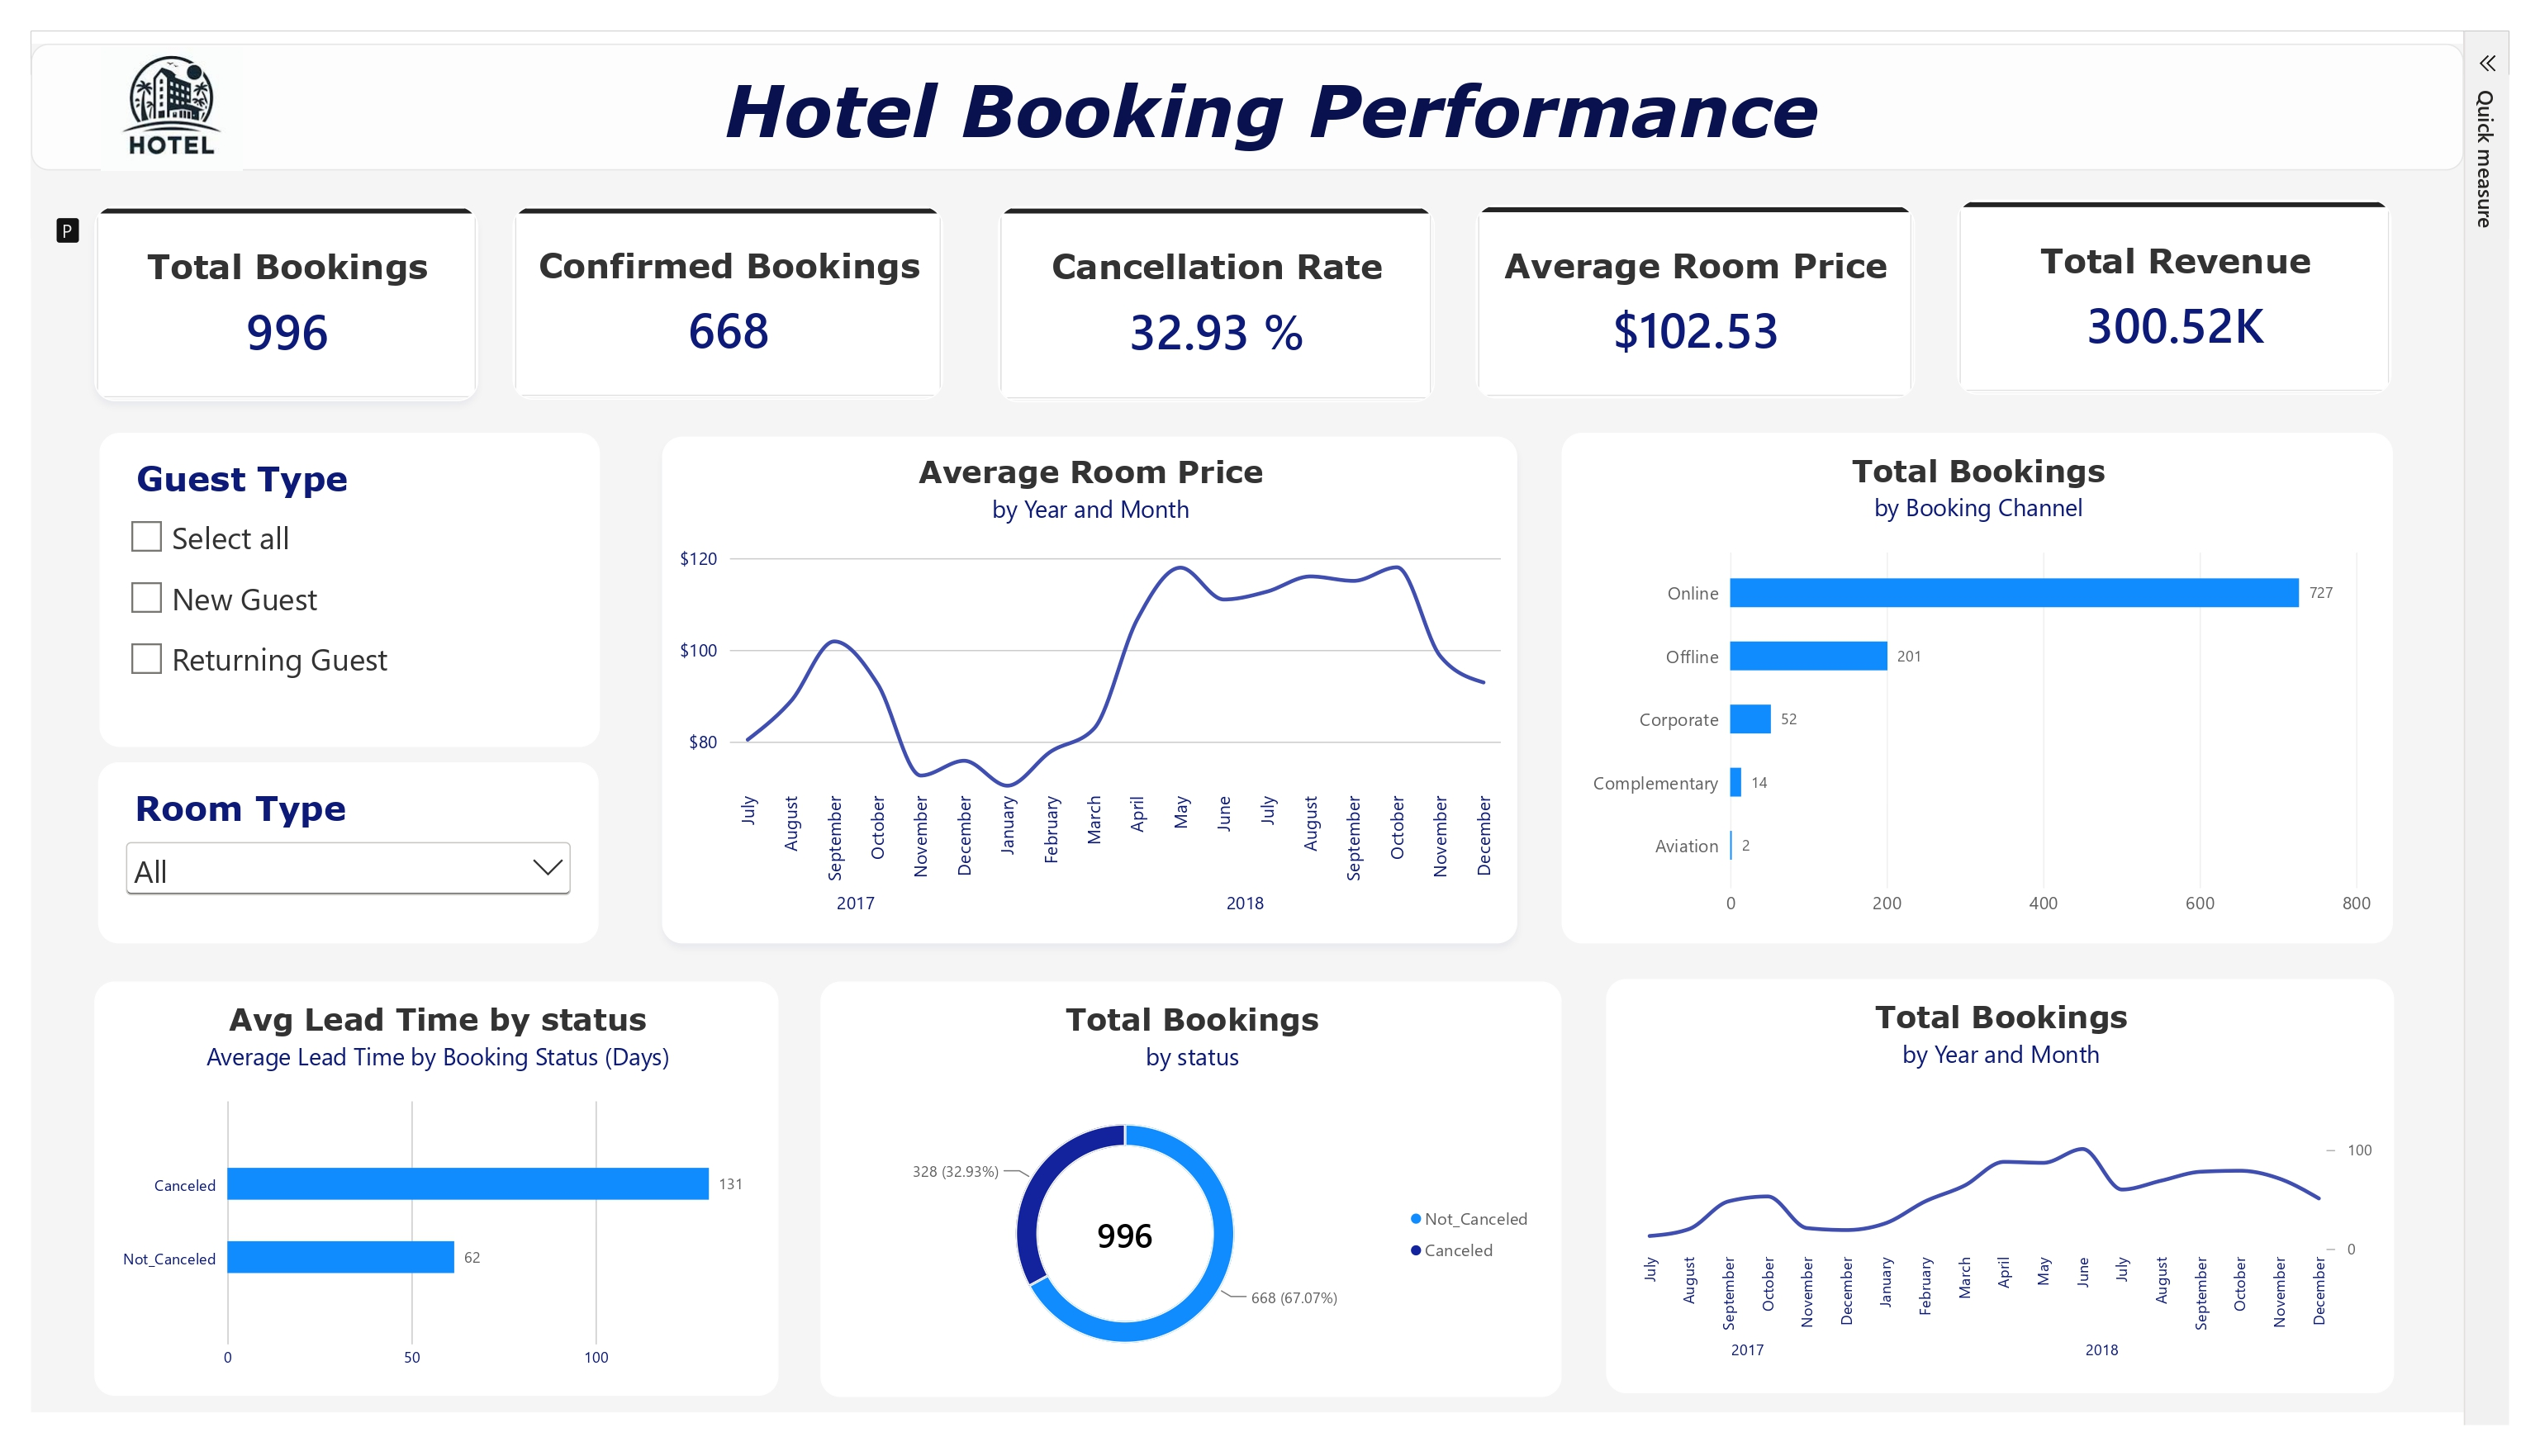

This screenshot's page, from the dashboard's own definition file:
{"tool":"powerbi","page":{"name":"Page ١","canvas":[1920,1080],"ordinal":0},"visuals":[{"type":"cardVisual","fields":{"Data":["Table3.Total Bookings"]},"box":[50,128.3,303.3,153.3],"z":0},{"type":"cardVisual","fields":{"Data":["Table3.Average Room Price"]},"box":[1140,126.7,346.7,153.3],"z":1000},{"type":"cardVisual","fields":{"Data":["Table3.Total Revenue"]},"box":[1520,123.3,343.3,153.3],"z":2000},{"type":"cardVisual","fields":{"Data":["Table3.Confirmed Bookings"]},"box":[380,128.3,340,152.9],"z":3000},{"type":"cardVisual","fields":{"Data":["Table3.Cancellation Rate"]},"box":[763.3,128.3,344.3,154.3],"z":4000},{"type":"lineChart","fields":{"Category":["Table3.arrival_date.Variation.Date Hierarchy.Year","Table3.arrival_date.Variation.Date Hierarchy.Month"],"Y2":["Table3.Total Bookings"]},"box":[1242.5,737.5,622.5,327.5],"z":5000},{"type":"donutChart","fields":{"Category":["Table3.status"],"Y":["Table3.Total Bookings"]},"box":[622.5,740,585,327.5],"z":6000},{"type":"clusteredBarChart","title":"Total Bookings","fields":{"Category":["Table3.market_segment"],"Y":["Table3.Total Bookings"]},"box":[1207.8,306.7,656.7,403.3],"z":7000},{"type":"clusteredBarChart","fields":{"Category":["Table3.status"],"Y":["Table3.Avg Lead Time"]},"box":[50,740,540,326.7],"z":8000},{"type":"slicer","fields":{"Values":["Table3.Room Category"]},"box":[53.3,566.7,394.4,143.4],"z":9000},{"type":"slicer","fields":{"Values":["Table3.Guest Type"]},"box":[54.4,306.7,394.4,248],"z":10000},{"type":"textbox","box":[0,0,1920,100],"z":11000},{"type":"lineChart","fields":{"Category":["Table3.arrival_date.Variation.Date Hierarchy.Year","Table3.arrival_date.Variation.Date Hierarchy.Month"],"Y":["Table3.Average Room Price"]},"box":[497.5,310,675,400],"z":12000},{"type":"image","box":[20,3.3,181.7,96.7],"z":13000}]}

Visuals, with their boxes on the page's 1920x1080 design canvas (x1, y1, x2, y2). These are canvas units, not pixel positions in the 2540x1456 screenshot, which may show the page scaled, cropped or inside an application window:
cardVisual - Table3.Total Bookings: bbox=(50, 128, 353, 282)
cardVisual - Table3.Average Room Price: bbox=(1140, 127, 1487, 280)
cardVisual - Table3.Total Revenue: bbox=(1520, 123, 1863, 277)
cardVisual - Table3.Confirmed Bookings: bbox=(380, 128, 720, 281)
cardVisual - Table3.Cancellation Rate: bbox=(763, 128, 1108, 283)
lineChart - Table3.arrival_date.Variation.Date Hierarchy.Year x Table3.arrival_date.Variation.Date Hierarchy.Month: bbox=(1242, 738, 1865, 1065)
donutChart - Table3.status x Table3.Total Bookings: bbox=(622, 740, 1208, 1068)
"Total Bookings" clusteredBarChart: bbox=(1208, 307, 1864, 710)
clusteredBarChart - Table3.status x Table3.Avg Lead Time: bbox=(50, 740, 590, 1067)
slicer - Table3.Room Category: bbox=(53, 567, 448, 710)
slicer - Table3.Guest Type: bbox=(54, 307, 449, 555)
textbox: bbox=(0, 0, 1920, 100)
lineChart - Table3.arrival_date.Variation.Date Hierarchy.Year x Table3.arrival_date.Variation.Date Hierarchy.Month: bbox=(498, 310, 1172, 710)
image: bbox=(20, 3, 202, 100)
